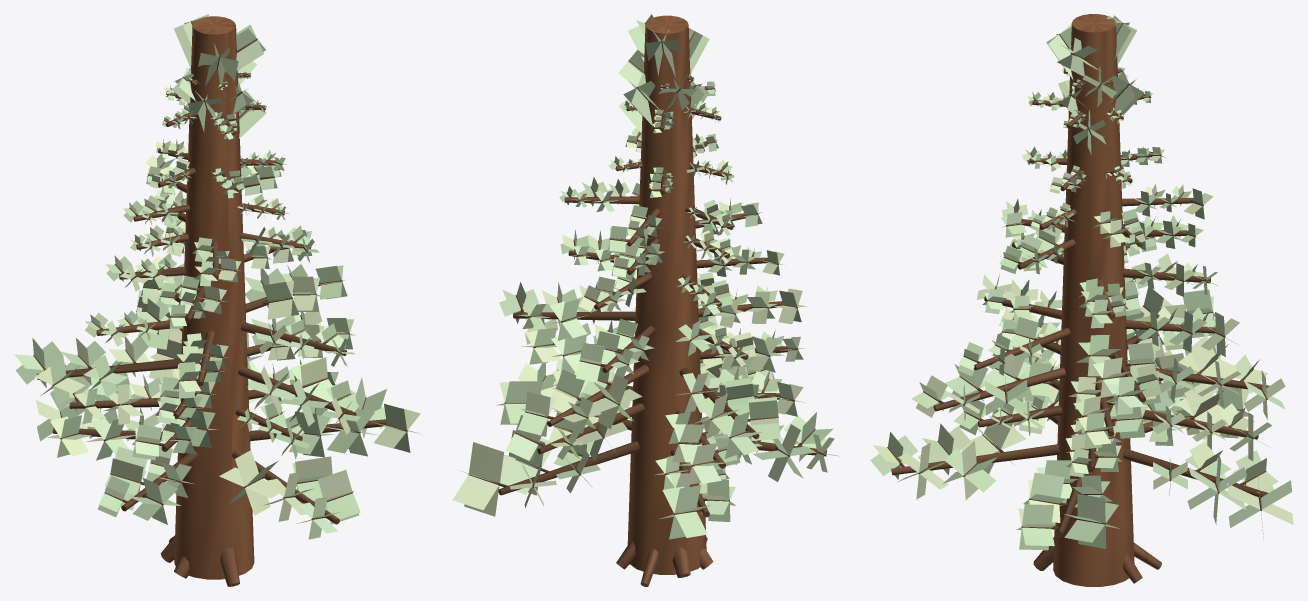
The model's file is small-lod0.glb.
3 renders of one model, left to right at view 1: azimuth 30°, elevation 25°; view 2: azimuth 150°, elevation 25°; view 3: azimuth 270°, elevation 25°, orthographic. The views are drawn at different scales.
Visible parts, largest first — view 1: pine-terminal-needle-sprigs, pine-trunk-branches-buried-roots-ground-blend; view 2: pine-terminal-needle-sprigs, pine-trunk-branches-buried-roots-ground-blend; view 3: pine-terminal-needle-sprigs, pine-trunk-branches-buried-roots-ground-blend.
Part boxes in pixels (x1=…): pine-terminal-needle-sprigs: x1=14, y1=14, x2=420, y2=539; pine-trunk-branches-buried-roots-ground-blend: x1=33, y1=16, x2=407, y2=586; pine-terminal-needle-sprigs: x1=452, y1=14, x2=840, y2=539; pine-trunk-branches-buried-roots-ground-blend: x1=468, y1=15, x2=826, y2=586; pine-terminal-needle-sprigs: x1=870, y1=15, x2=1293, y2=550; pine-trunk-branches-buried-roots-ground-blend: x1=887, y1=14, x2=1269, y2=586.
Size of the model in its own units: 8.12 by 13.13 by 9.08.
